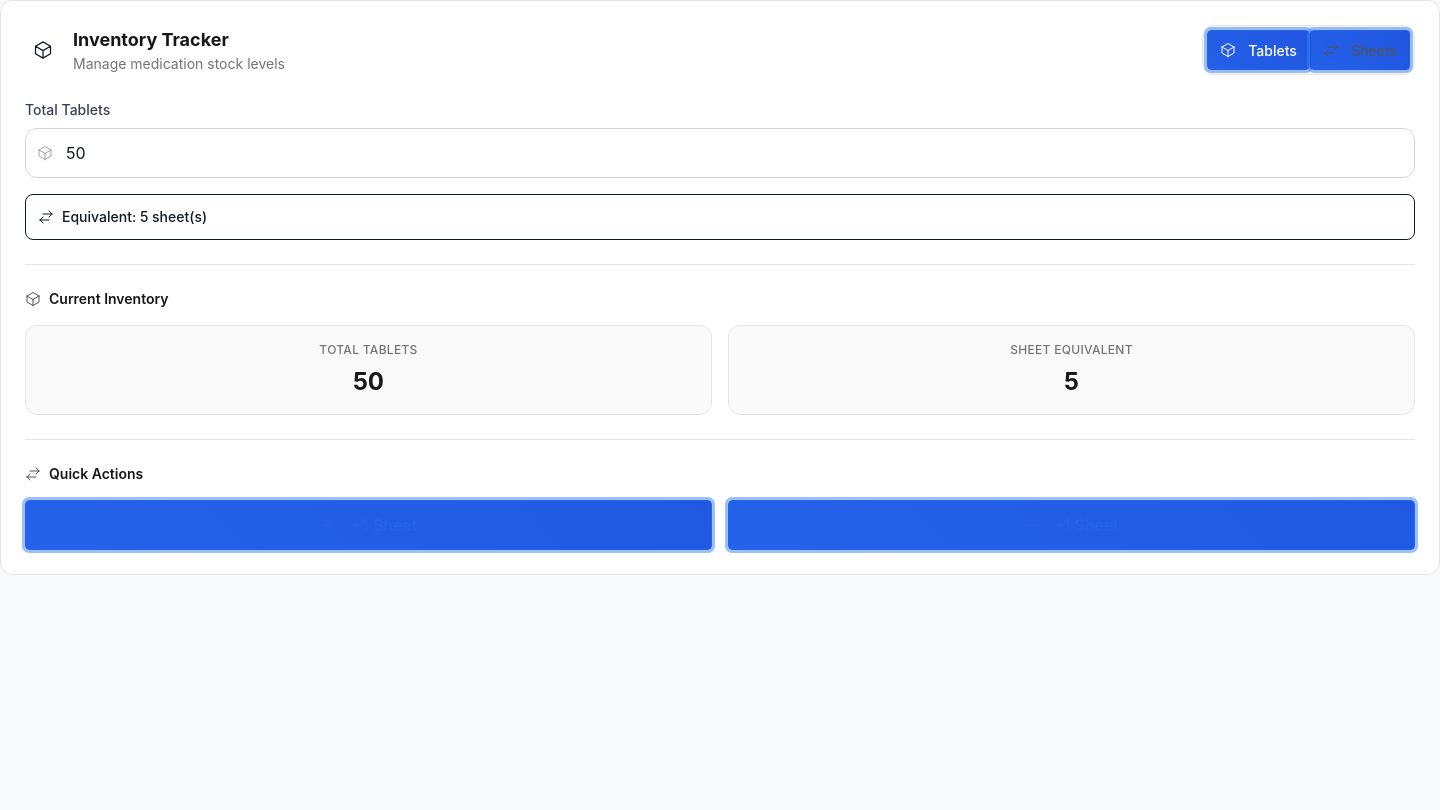
Test: InventoryTracker › validates sheet size is positive in sheets mode
The width and height of the screenshot is (1440, 810).
Note: Switch to sheets mode
Click the button "Sheets": (1360, 50) [1310,30,1410,70]
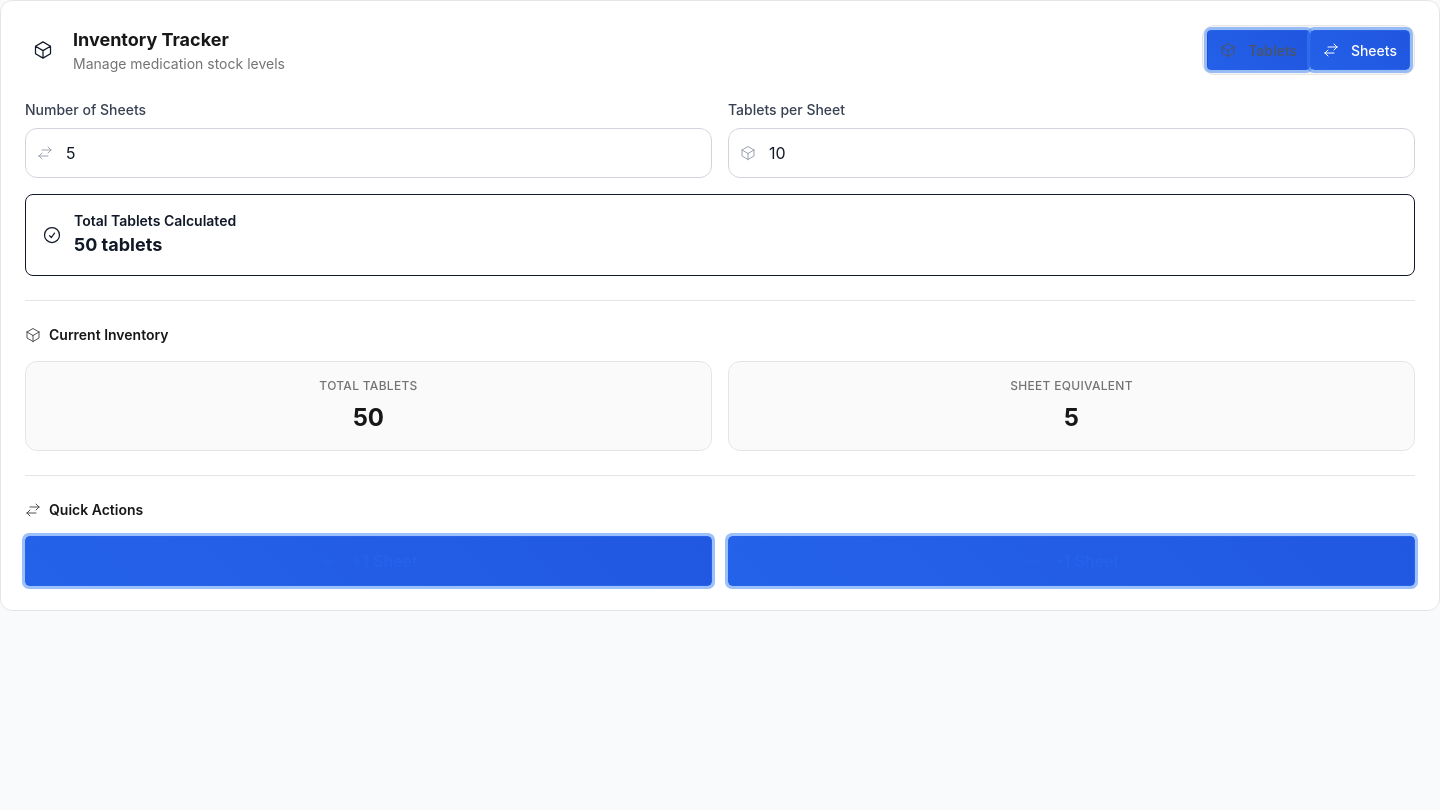
Note: Enter invalid sheet size
In the number field labelled "Tablets per Sheet": (1072, 153) [728,128,1415,178], type "0"
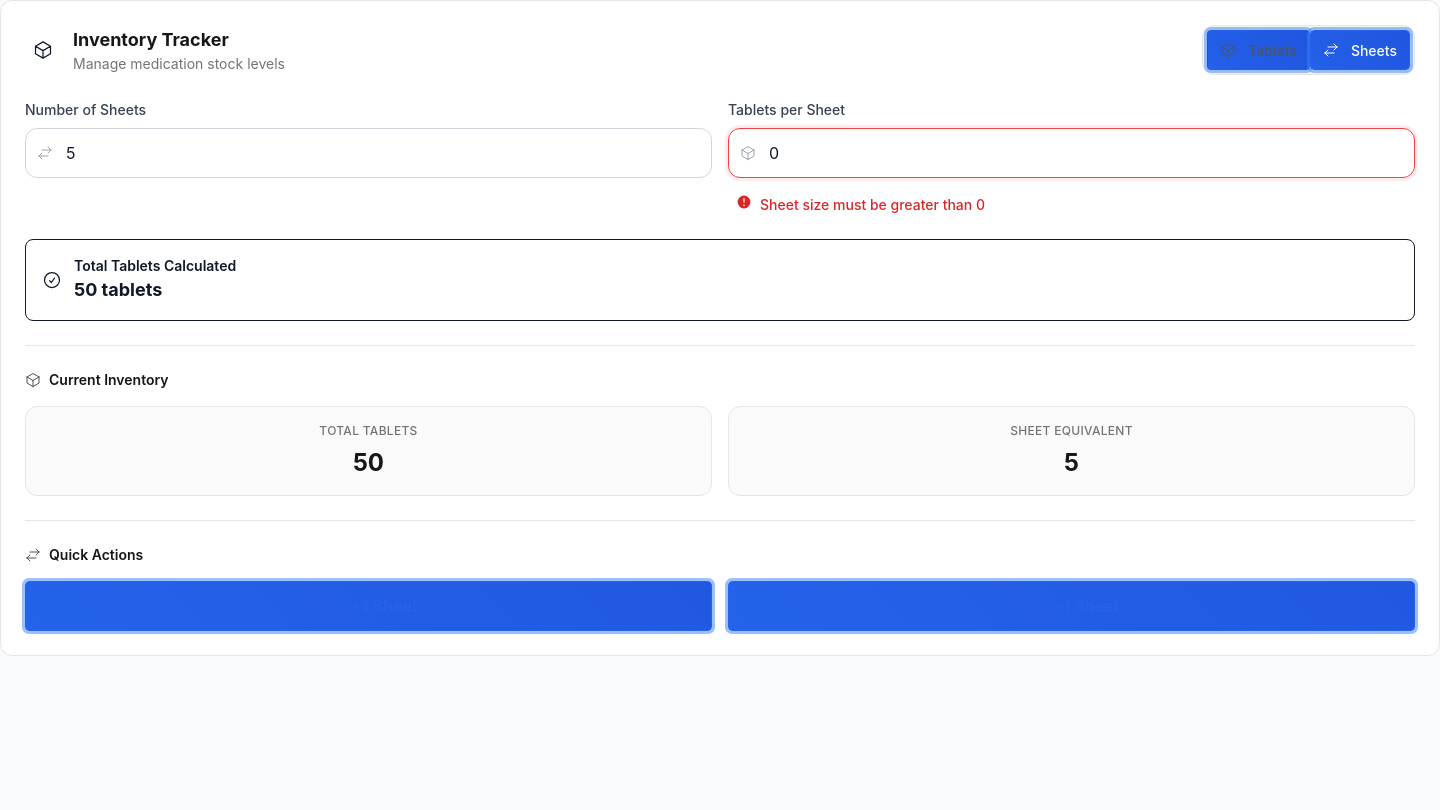
Check: the text "Sheet size must be greater than 0" is shown, box [760,194,985,215]
